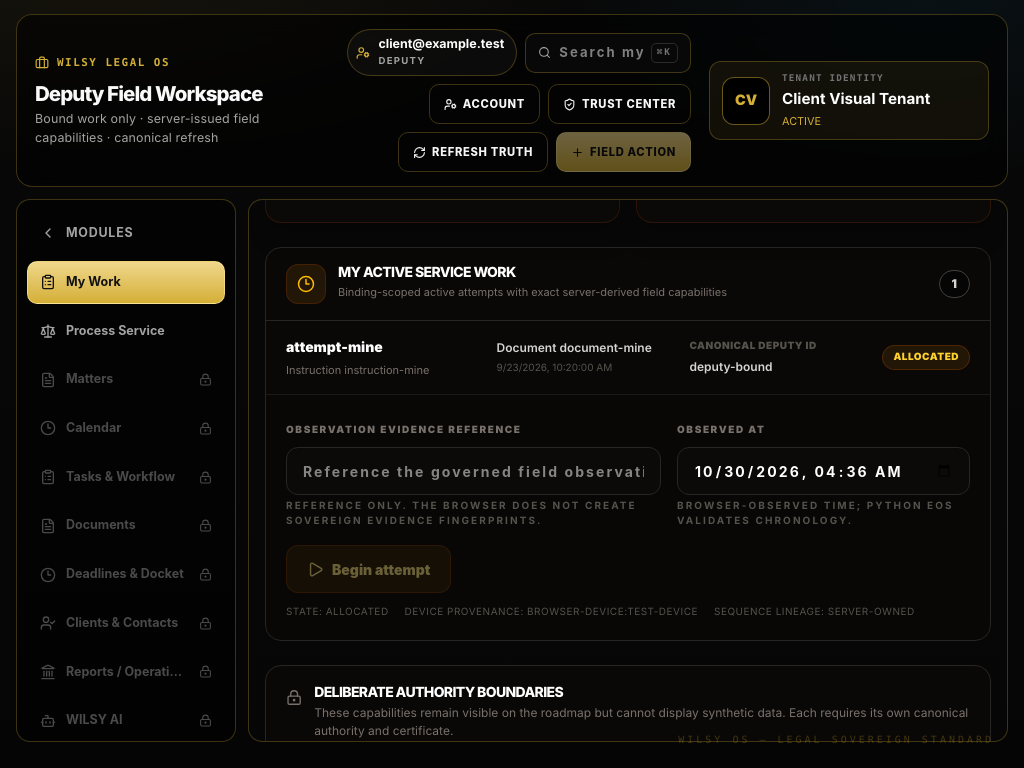
it: L8-7D8 governed Legal Operations cockpit › begins an allocated attempt and shows success only after canonical refresh
(page scrolled)
Type "photo:door-attempt-mine" into the field named "Observation evidence reference for attempt-mine" at (474, 471), box [286,447,661,495]
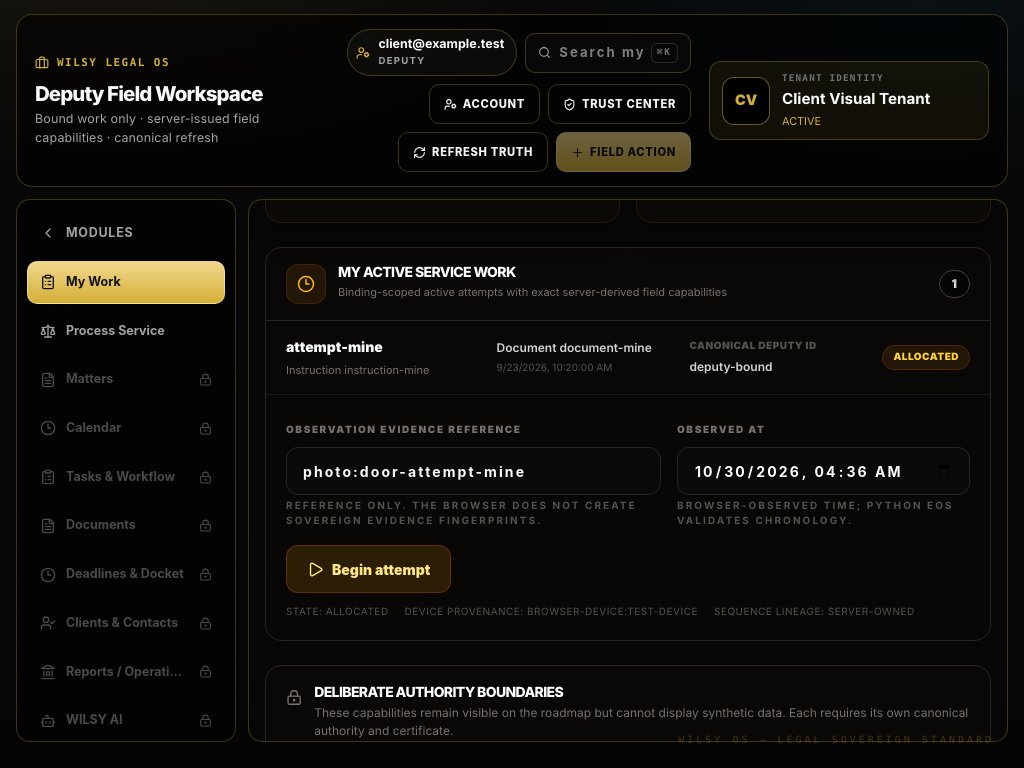
Check: the button "Begin attempt" is enabled
Click the button "Begin attempt" at (369, 569), box [286,545,451,593]
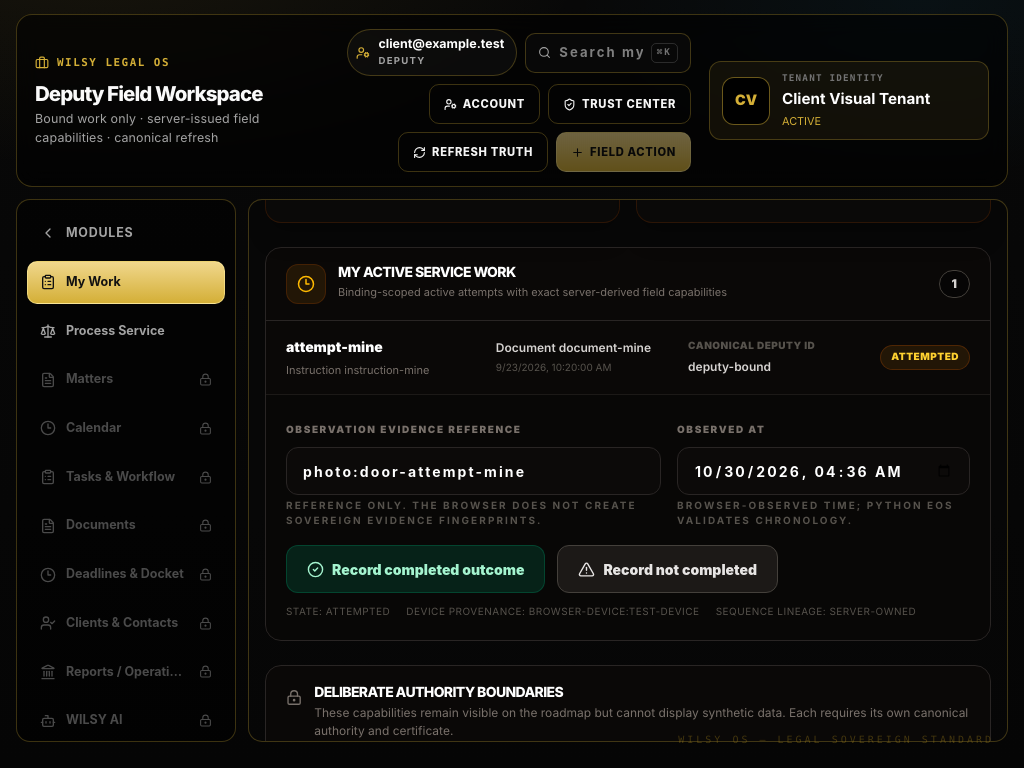
Check: the button "Record completed outcome" is shown, box [286,545,545,593]
